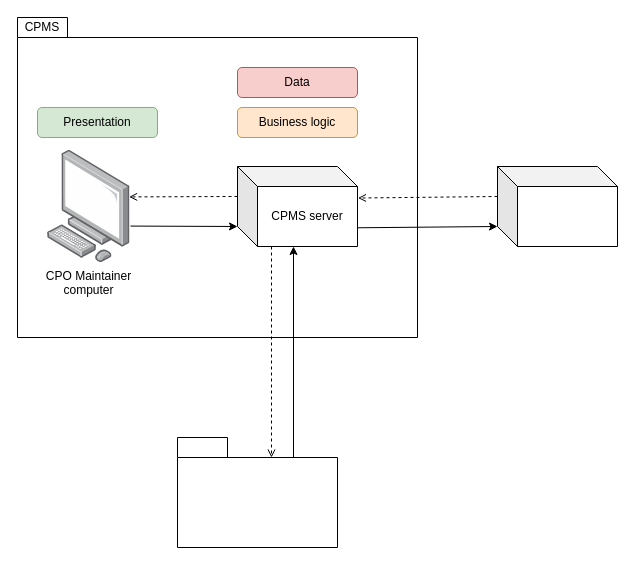
This 635x565 diagram has some shape labels left out. The shapes that lost their labels are listed below. From the top down, each one's box as (x1, y1, x2, y2) in pixels, then its label:
(496, 166, 618, 246): Charging station
(176, 436, 338, 548): eMSP
